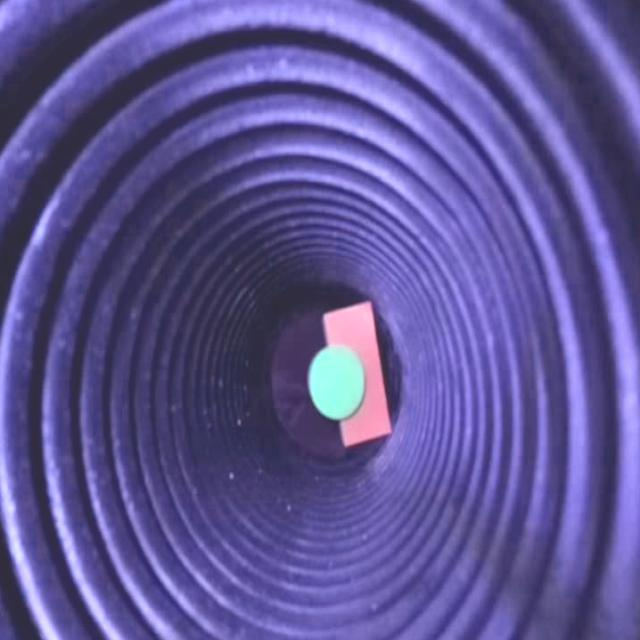block: (278, 328, 309, 442)
obstacles: (312, 304, 396, 448)
